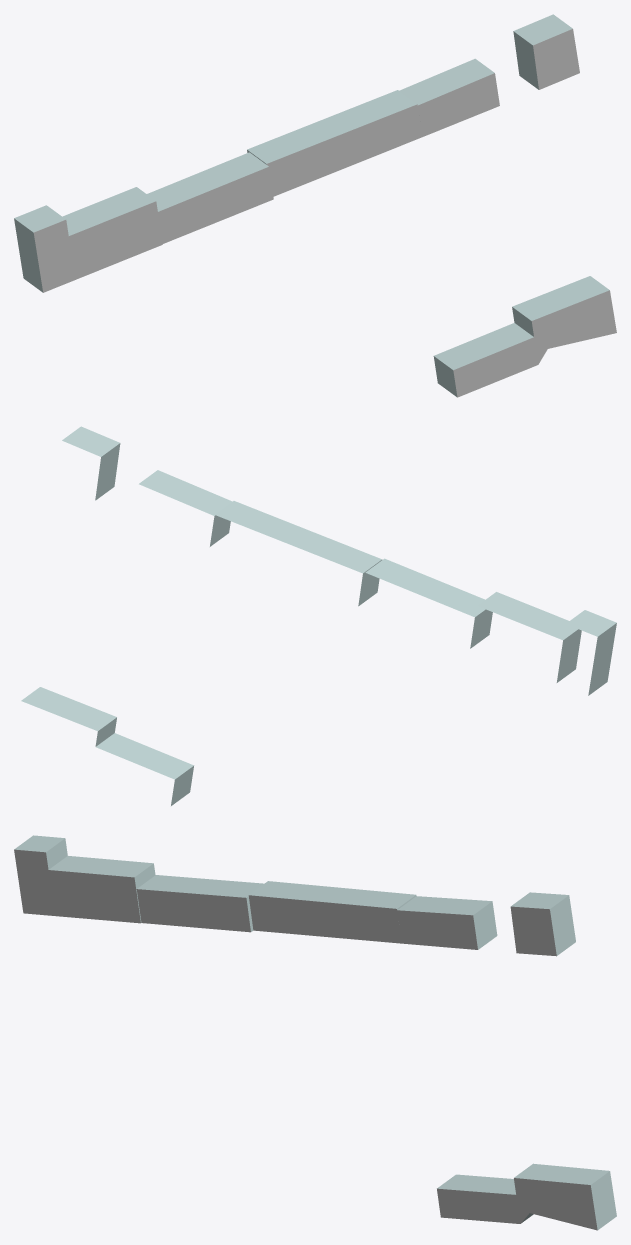
3 views of the same model, one above another, from view 1: azimuth 30°, elevation 25°; view 2: azimuth 150°, elevation 25°; view 3: azimuth 330°, elevation 25° (orthographic).
Visible parts, largest first — view 1: 0_1_2_1_3_0_2_1_1; view 2: 0_1_2_1_3_0_2_1_1; view 3: 0_1_2_1_3_0_2_1_1.
Boxes of the visible parts, <box> form: 0_1_2_1_3_0_2_1_1: <box>14,14,616,397</box>; 0_1_2_1_3_0_2_1_1: <box>21,426,616,805</box>; 0_1_2_1_3_0_2_1_1: <box>14,835,616,1230</box>.
Bounding box in the file's own units: 51.8 × 28.85 × 3.8.
